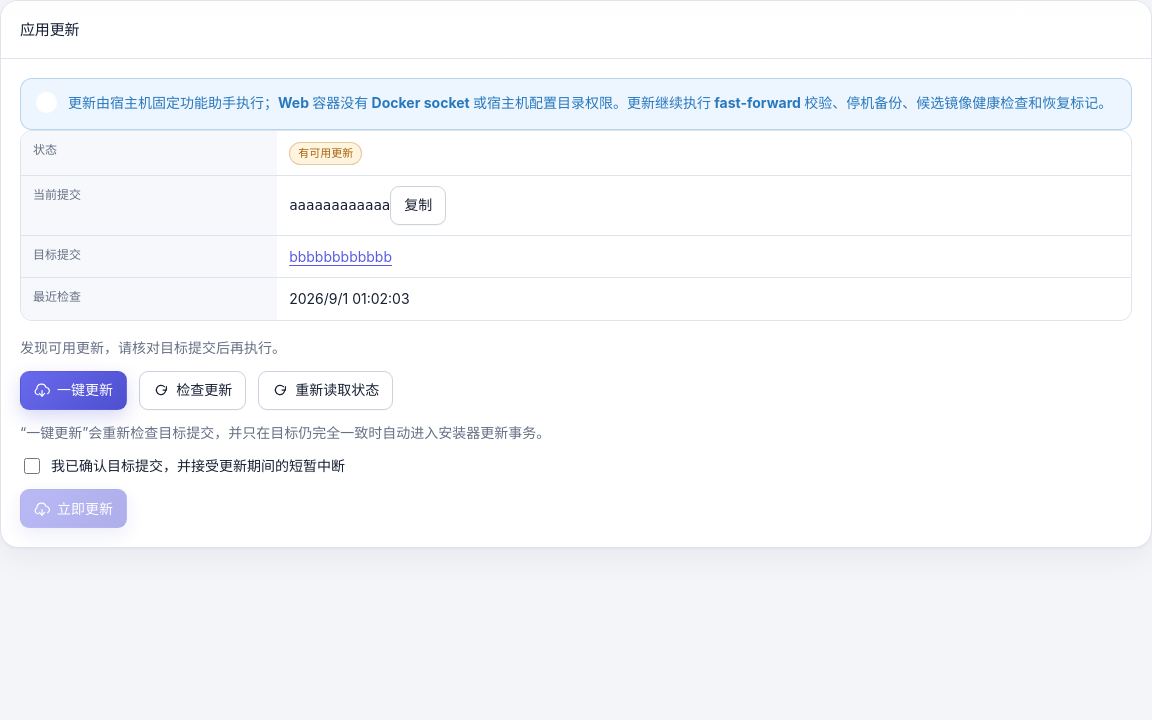
Test case: application update panel › queues checks without inventing progress or exposing privileged controls
Click the button named "检查应用更新" at [193, 390], box [139, 371, 246, 410]
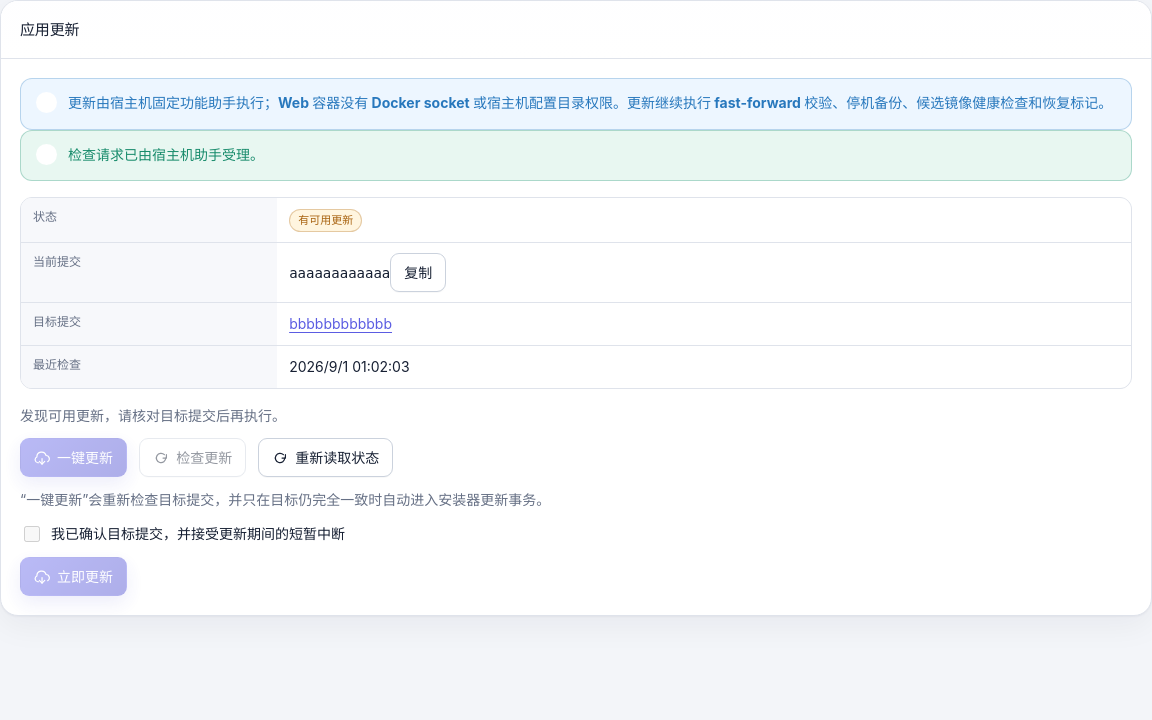
Expected: the text "没有 Docker socket" is shown, [68, 94, 1112, 111]
Now the text "检查请求已由宿主机助手受理。" is shown, box [68, 146, 264, 163]
